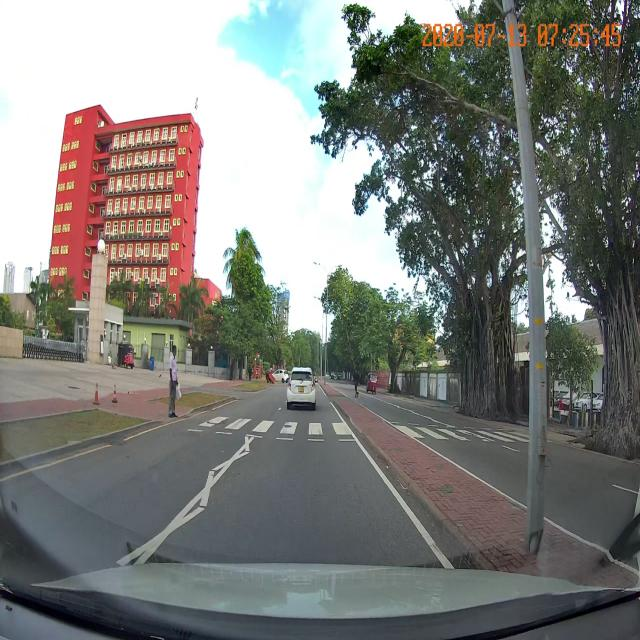Crosswalk: (184, 414, 529, 444)
